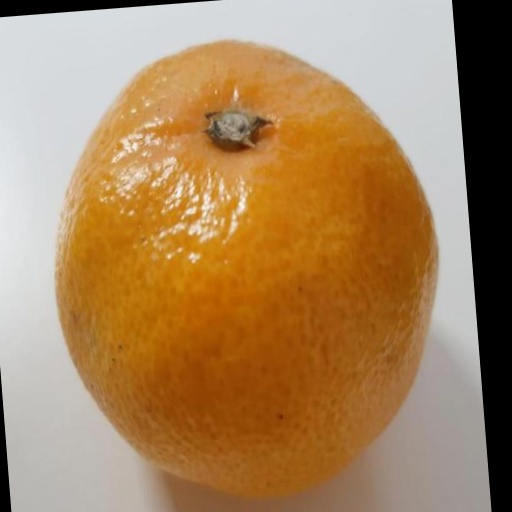fruit: (56, 42, 437, 496)
